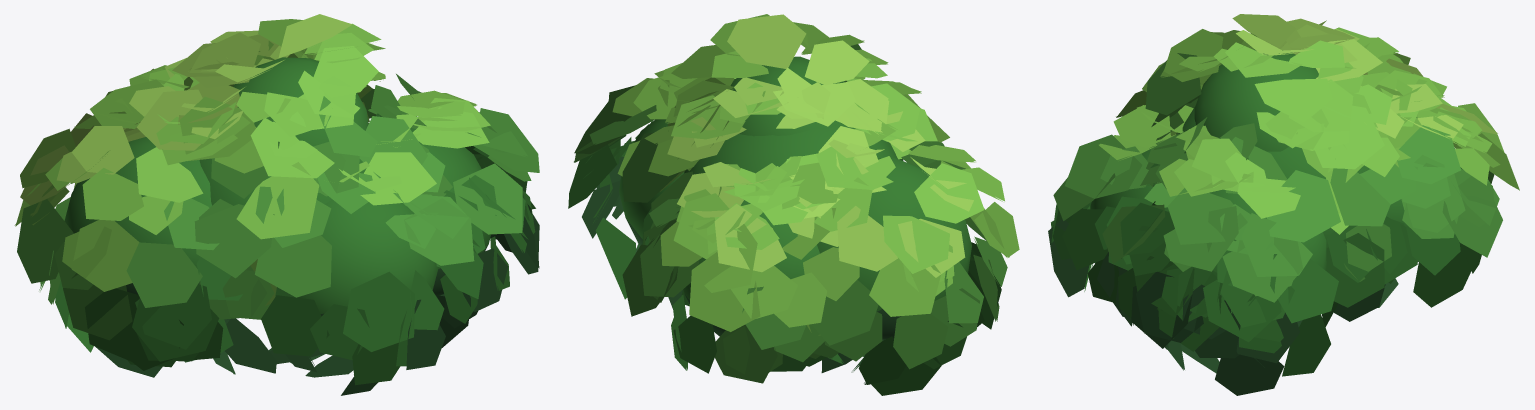
File: Bush.glb
3 views of the same model, side by side, from view 1: azimuth 30°, elevation 25°; view 2: azimuth 150°, elevation 25°; view 3: azimuth 270°, elevation 25° (orthographic). The views are drawn at different scales.
Visible parts, largest first — view 1: Sway; view 2: Sway; view 3: Sway.
Part boxes in pixels (x1,y1,x2,y2): Sway: (14, 14, 539, 395); Sway: (568, 14, 1019, 395); Sway: (1048, 14, 1519, 395).
Size of the model in its own units: 4.67 by 3.27 by 4.44.
Materials: 1 (1 with a texture image).
